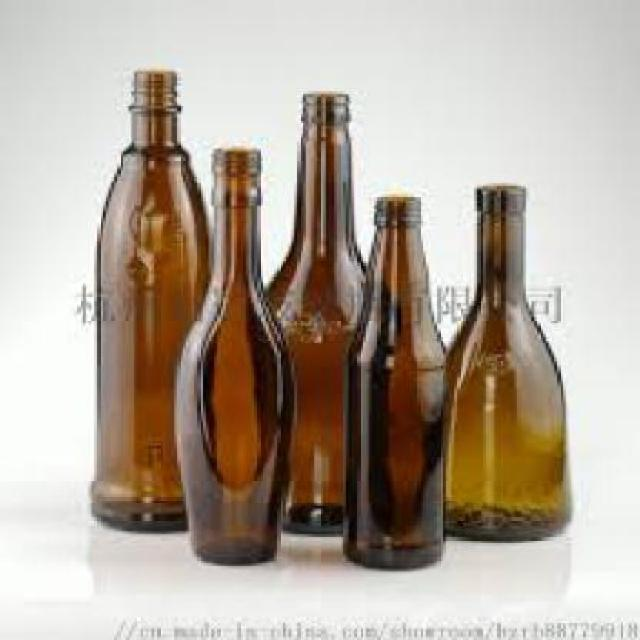kaca: (89, 69, 206, 529), (172, 148, 292, 563), (263, 92, 371, 532), (440, 183, 571, 543), (343, 194, 446, 569)
